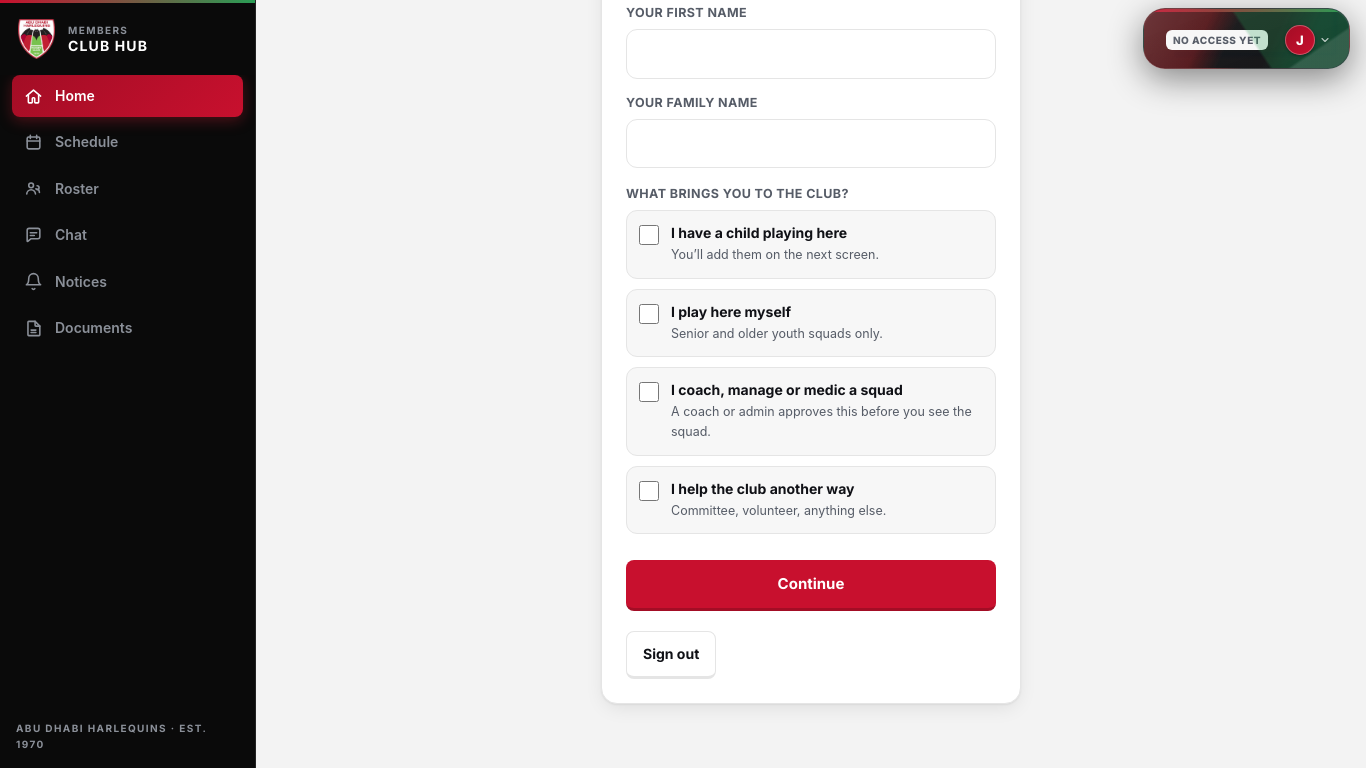
it: AppShell › surfaces a sign-out failure instead of throwing
(page scrolled)
Click the button "Sign out" at (671, 655), box [626, 631, 716, 679]
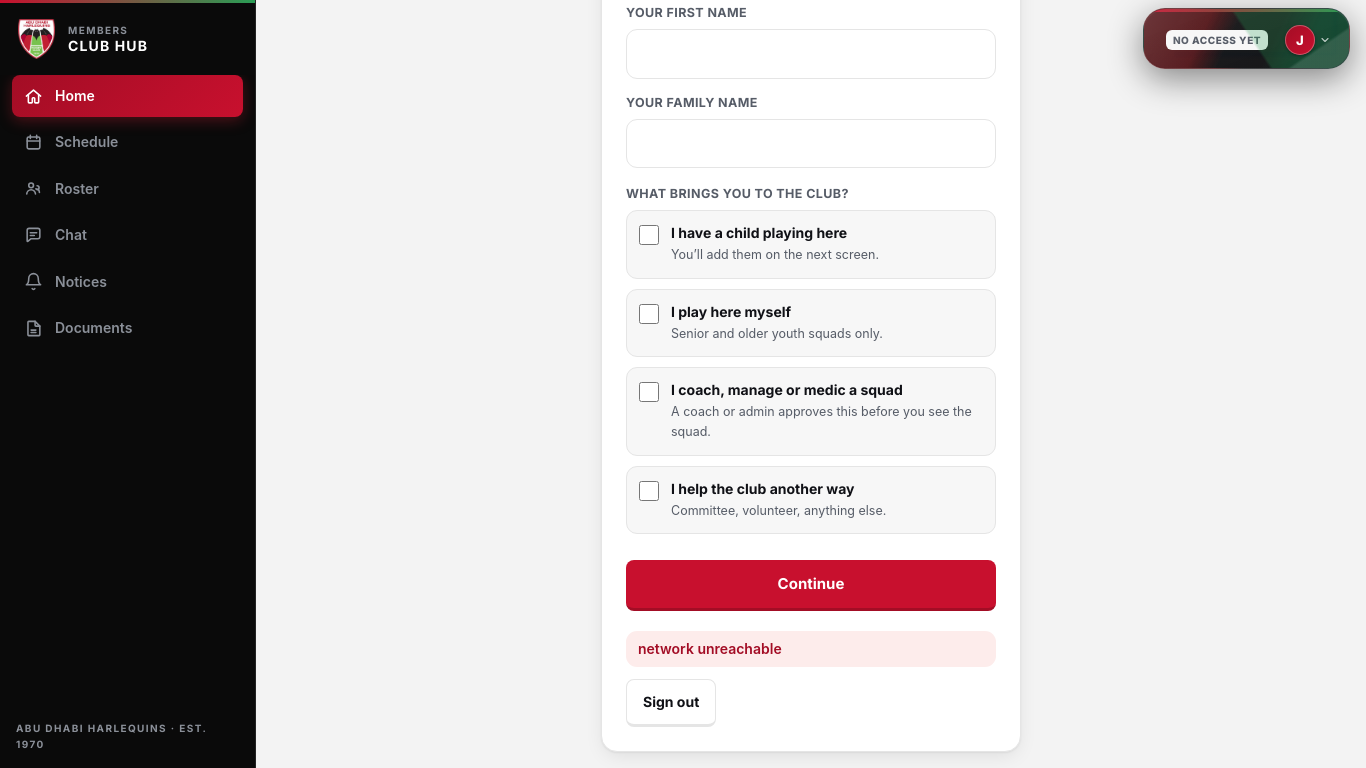
Expected: the text "network unreachable" is shown, [626, 631, 996, 667]
